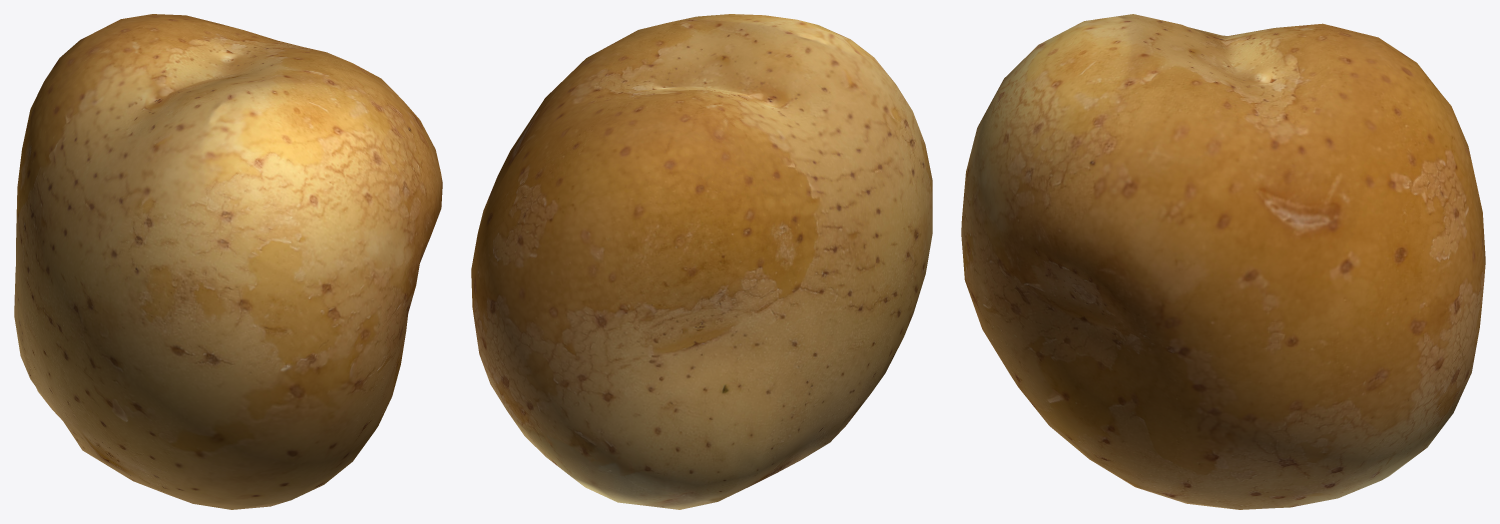
File: potato.fbx
The picture shows the model from 3 angles, left to right: view 1: azimuth 30°, elevation 25°; view 2: azimuth 150°, elevation 25°; view 3: azimuth 270°, elevation 25°; orthographic projection. The views are drawn at different scales.
Parts seen in each view (by area): view 1: potato; view 2: potato; view 3: potato.
Boxes of the visible parts, box(x1,y1,x2,y2) form: potato: box(14, 14, 442, 509); potato: box(471, 14, 932, 509); potato: box(961, 14, 1485, 509).
Size of the model in its own units: 185 by 211 by 221.
